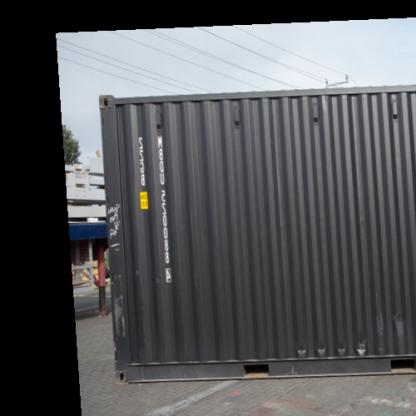Damage: (104, 265, 142, 342)
